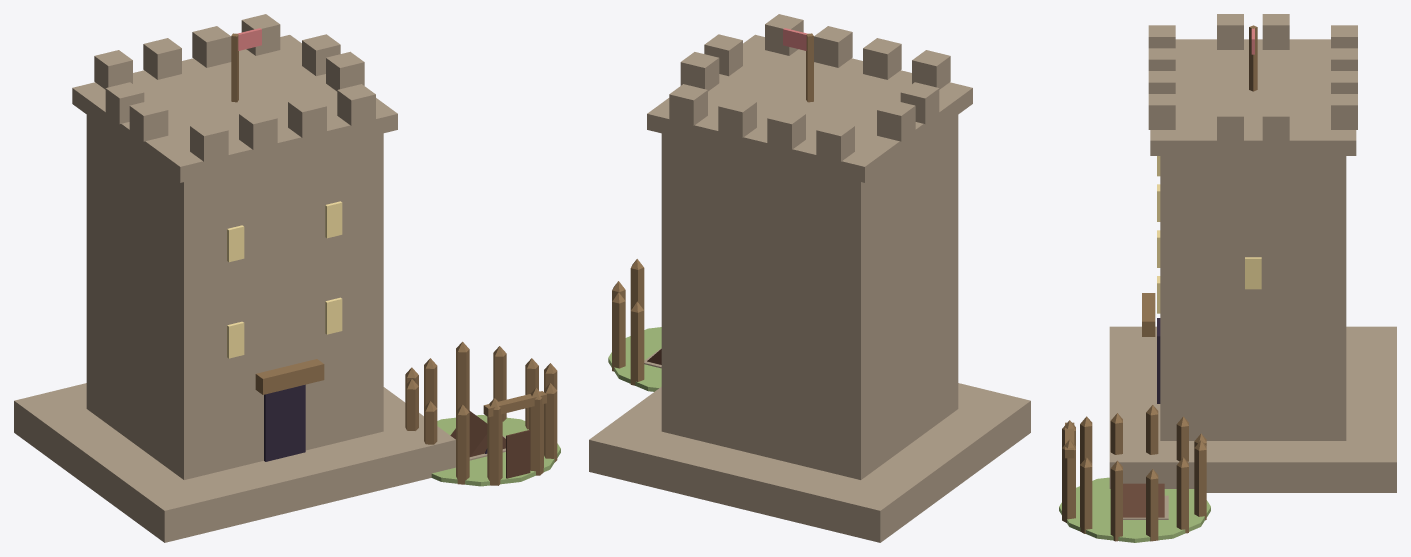
The model's file is medieval-g2.glb.
The picture shows the model from 3 angles, left to right: view 1: azimuth 30°, elevation 25°; view 2: azimuth 150°, elevation 25°; view 3: azimuth 270°, elevation 25°; orthographic projection. The views are drawn at different scales.
Visible parts, largest first — view 1: medieval-g2; view 2: medieval-g2; view 3: medieval-g2.
Part boxes in pixels (bbox=[...]): medieval-g2: bbox=[14, 14, 560, 542]; medieval-g2: bbox=[589, 14, 1030, 542]; medieval-g2: bbox=[1059, 14, 1396, 542].
Size of the model in its own units: 2.6 by 2.6 by 2.
